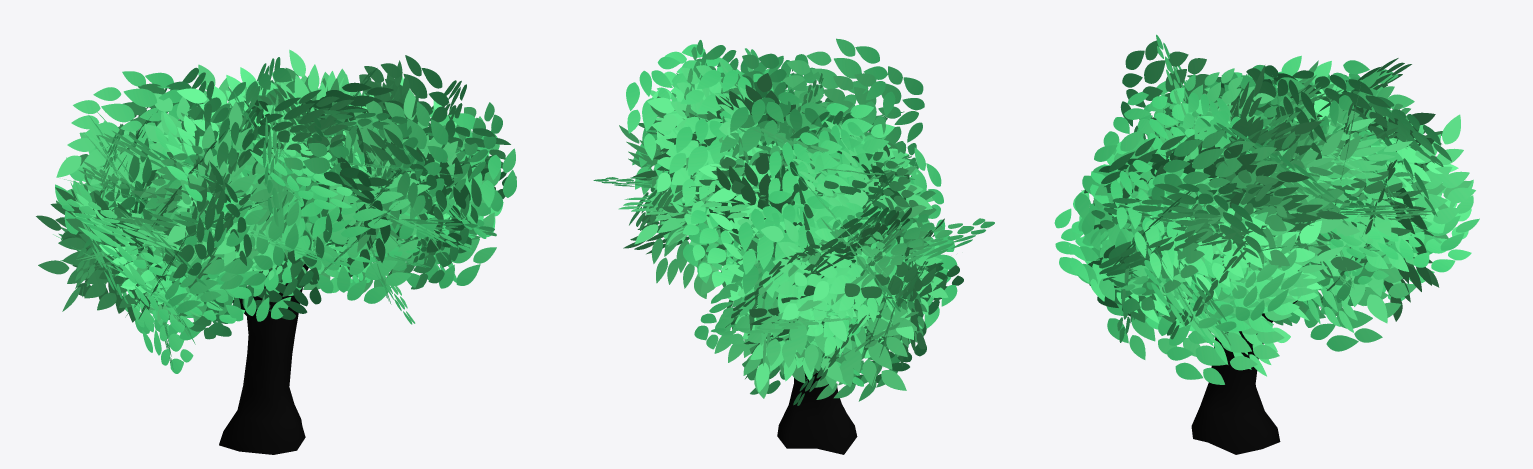
File: arbol.fbx
3 views of the same model, side by side, from view 1: azimuth 30°, elevation 25°; view 2: azimuth 150°, elevation 25°; view 3: azimuth 270°, elevation 25° (orthographic). The views are drawn at different scales.
Parts seen in each view (by area): view 1: ojas.300, arbol1; view 2: ojas.300, arbol1; view 3: ojas.300, arbol1.
Part boxes in pixels (left/top/right/bottom): ojas.300: left=36, top=49, right=516, bottom=373; arbol1: left=219, top=263, right=308, bottom=454; ojas.300: left=593, top=38, right=994, bottom=405; arbol1: left=777, top=365, right=857, bottom=454; ojas.300: left=1054, top=34, right=1479, bottom=384; arbol1: left=1191, top=300, right=1297, bottom=454.
Bounding box in the file's own units: 595 × 511 × 520.
